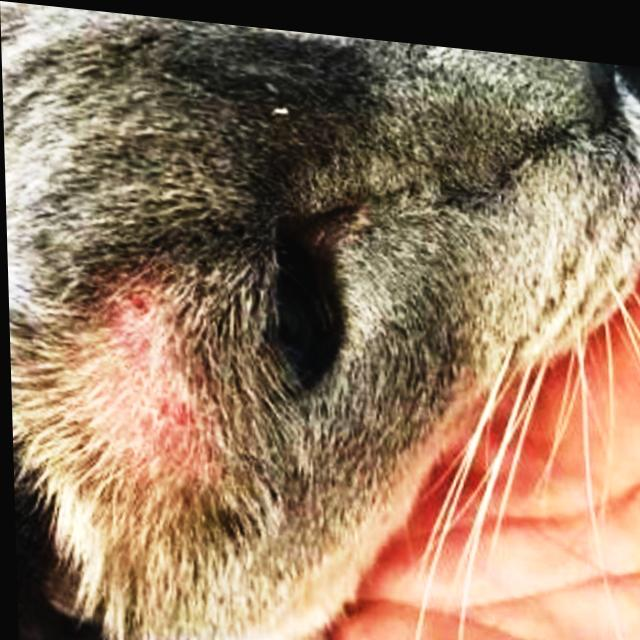ringworm: (108, 295, 202, 470)
